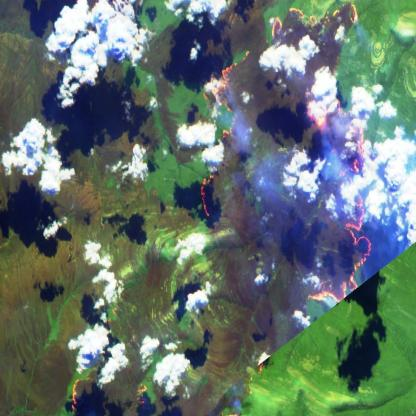fire: (198, 0, 370, 312), (64, 373, 92, 415), (134, 378, 155, 406)
